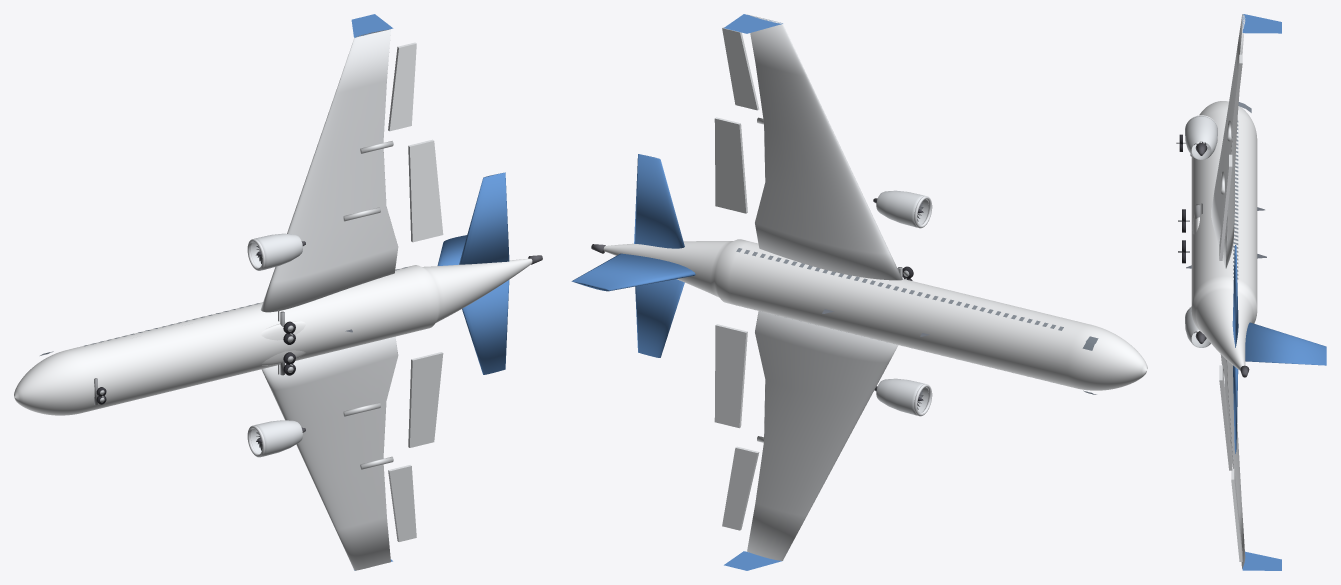
The picture shows the model from 3 angles, left to right: view 1: azimuth 30°, elevation 25°; view 2: azimuth 150°, elevation 25°; view 3: azimuth 270°, elevation 25°; orthographic projection.
Visible parts, largest first — view 1: Fuselage, Wing_R, Wing_L, HStab_R, HStab_L, Flap_R, Flap_L, Aileron_R, Aileron_L, Nacelle_-1_0, Nacelle_1_0, BellyFairing; view 2: Fuselage, Wing_L, Wing_R, HStab_R, Flap_L, HStab_L, Fin, Flap_R, Aileron_L, Aileron_R, Nacelle_-1_0, Nacelle_1_0 (+1 smaller); view 3: Fuselage, Wing_R, Fin, Wing_L, Nacelle_1_0, Sharklet_R, Sharklet_L, Flap_R, Flap_L, HStab_R, Aileron_L, Nacelle_-1_0 (+3 smaller).
Boxes of the visible parts, bbox=[...] form: Fuselage: bbox=[14, 258, 532, 415]; Wing_R: bbox=[260, 29, 398, 312]; Wing_L: bbox=[261, 336, 398, 570]; HStab_R: bbox=[459, 172, 509, 264]; HStab_L: bbox=[462, 280, 509, 374]; Flap_R: bbox=[408, 139, 443, 242]; Flap_L: bbox=[408, 352, 443, 447]; Aileron_R: bbox=[388, 42, 416, 131]; Aileron_L: bbox=[388, 465, 416, 541]; Nacelle_-1_0: bbox=[251, 420, 302, 456]; Nacelle_1_0: bbox=[251, 233, 302, 270]; BellyFairing: bbox=[261, 321, 305, 365]; Fuselage: bbox=[603, 239, 1147, 390]; Wing_L: bbox=[747, 311, 898, 560]; Wing_R: bbox=[747, 14, 902, 280]; HStab_R: bbox=[634, 154, 684, 248]; Flap_L: bbox=[714, 324, 747, 428]; HStab_L: bbox=[635, 279, 684, 357]; Fin: bbox=[571, 253, 695, 291]; Flap_R: bbox=[714, 117, 747, 213]; Aileron_L: bbox=[722, 446, 759, 530]; Aileron_R: bbox=[722, 27, 759, 110]; Nacelle_-1_0: bbox=[876, 378, 928, 415]; Nacelle_1_0: bbox=[876, 190, 928, 227]; Fuselage: bbox=[1191, 101, 1257, 370]; Wing_R: bbox=[1211, 14, 1245, 268]; Fin: bbox=[1245, 322, 1326, 365]; Wing_L: bbox=[1220, 354, 1245, 568]; Nacelle_1_0: bbox=[1185, 116, 1217, 159]; Sharklet_R: bbox=[1242, 14, 1281, 33]; Sharklet_L: bbox=[1242, 551, 1281, 570]; Flap_R: bbox=[1219, 154, 1232, 260]; Flap_L: bbox=[1219, 365, 1232, 470]; HStab_R: bbox=[1232, 245, 1238, 347]; Aileron_L: bbox=[1231, 468, 1242, 561]; Nacelle_-1_0: bbox=[1185, 307, 1210, 347].
Bounding box in the file's own units: 37.87 × 35.8 × 9.07.
